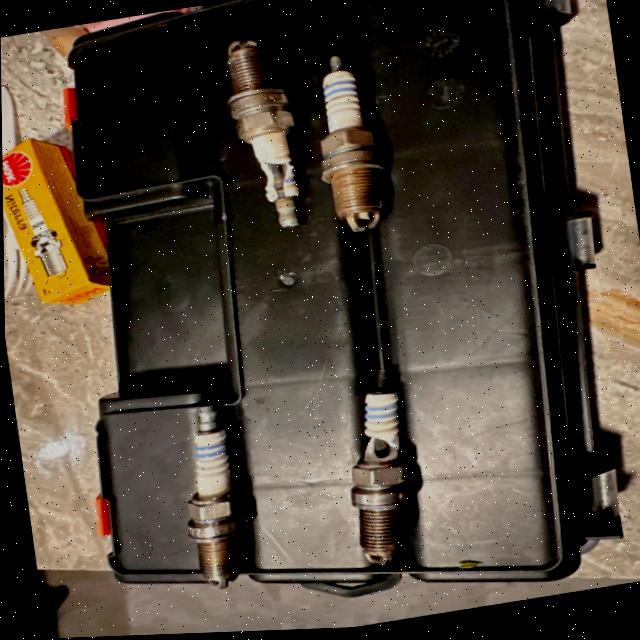damaged_spark-plug: (218, 23, 317, 239), (328, 362, 424, 584)
spark-plug: (157, 391, 266, 599), (306, 41, 398, 245)
